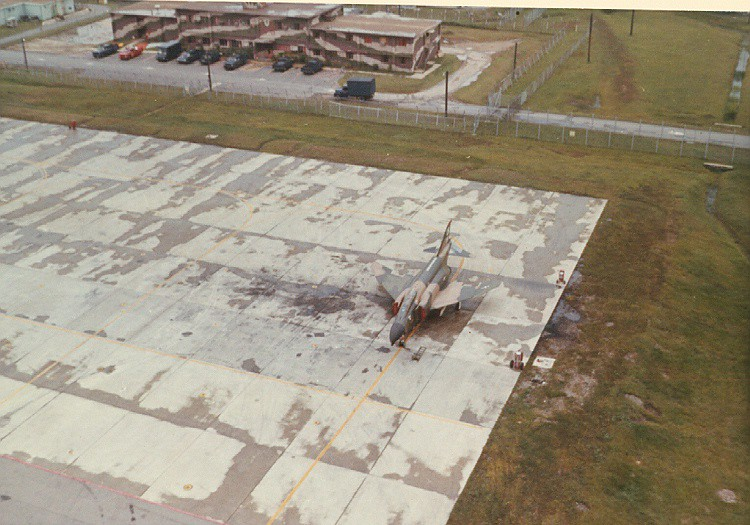F4: (369, 218, 503, 346)
